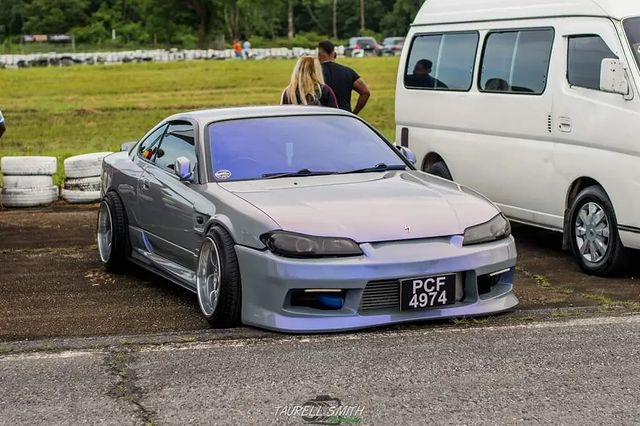License-Plate: (400, 280, 452, 310)
